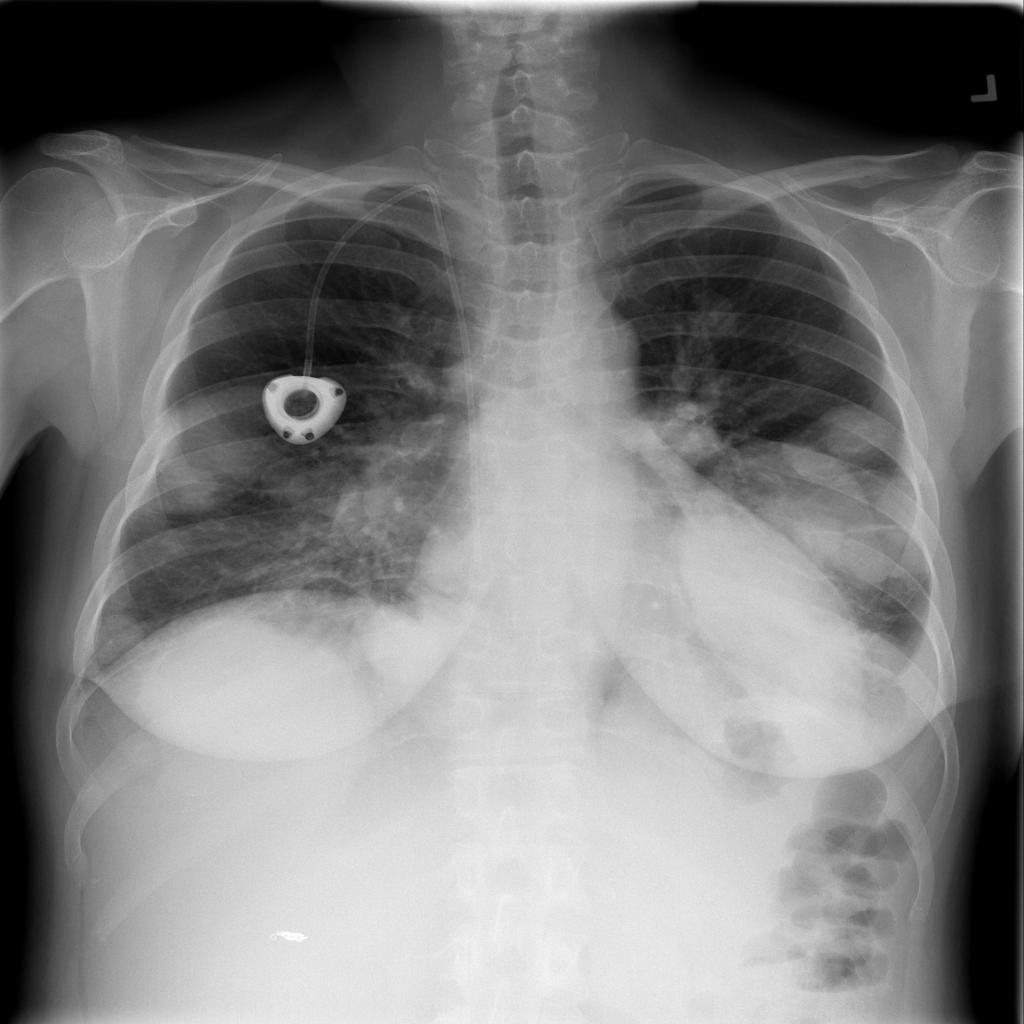nodule: (661, 450, 909, 678), (115, 367, 276, 514), (340, 585, 460, 697), (806, 397, 901, 471), (73, 603, 166, 668)
